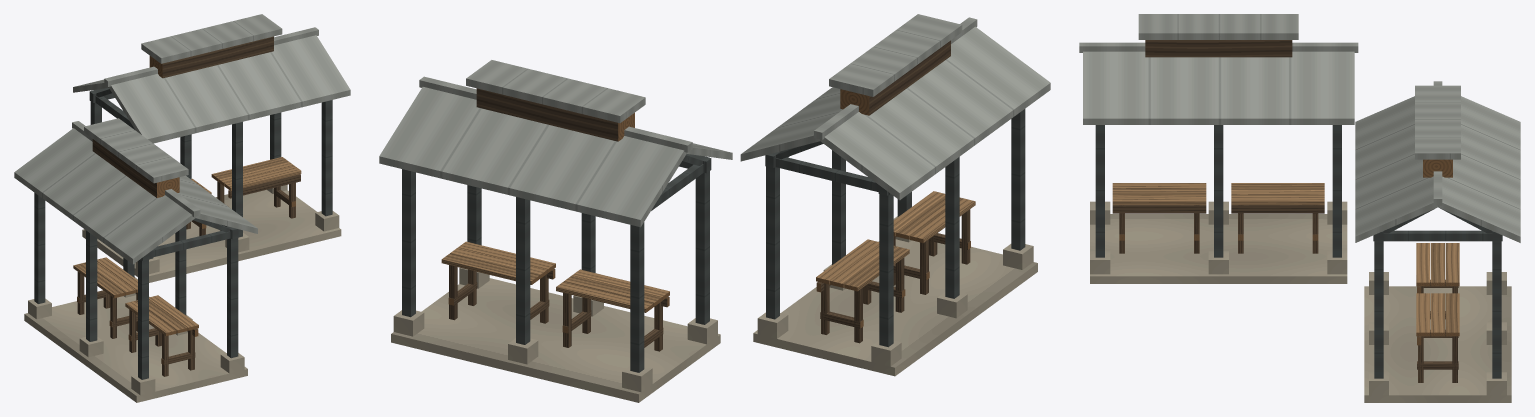
3 views of the same model, side by side, from view 1: azimuth 30°, elevation 25°; view 2: azimuth 150°, elevation 25°; view 3: azimuth 270°, elevation 25° (orthographic). The views are drawn at different scales.
Parts seen in each view (by area): view 1: abakaliki; view 2: abakaliki; view 3: abakaliki.
Part boxes in pixels (box(x1,y1,x2,y2)): abakaliki: box(14, 14, 350, 402); abakaliki: box(379, 14, 1050, 402); abakaliki: box(1079, 14, 1520, 402).
Bounding box in the file's own units: 4.08 × 2.3 × 4.01.
Materials: 1 (1 with a texture image).
